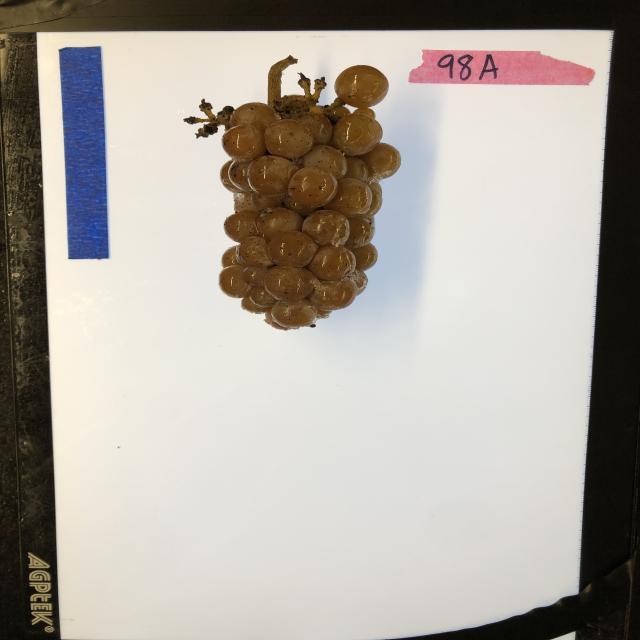grape_cluster: (178, 53, 405, 331)
index: (408, 49, 600, 86)
measure_label: (57, 44, 112, 260)
